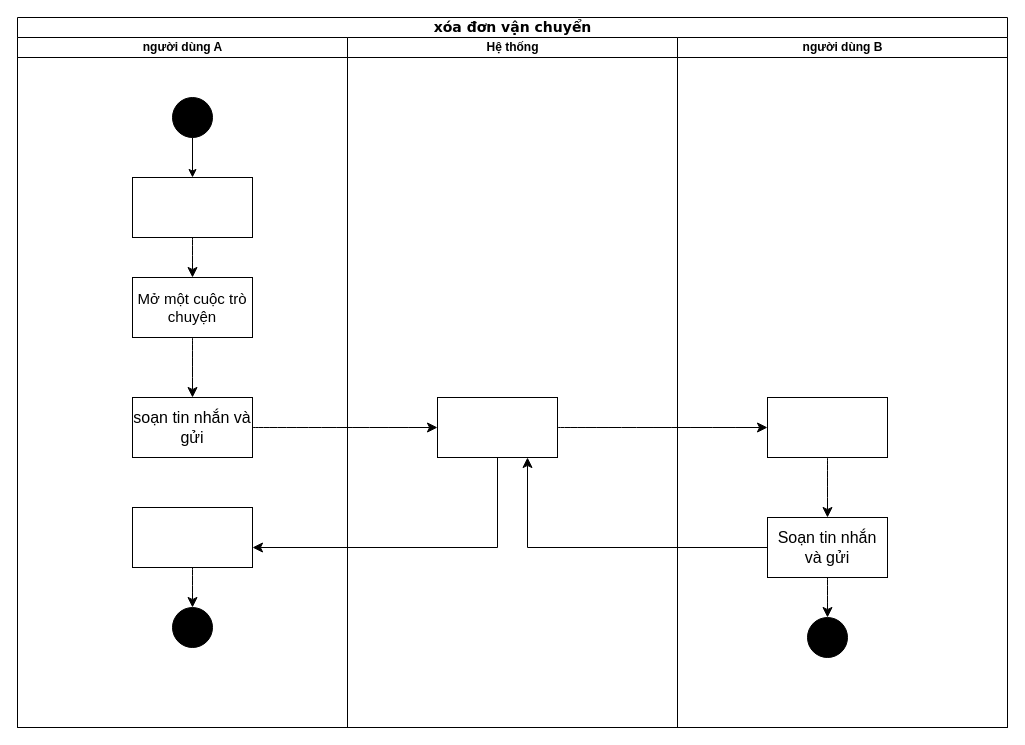
This 1025x745 diagram has some shape labels left out. Each missing label, with the centre of its shape:
"Mở trang nhắn tin" goes at (x=192, y=207).
"Nhận tin nhắn từ A" goes at (x=827, y=427).
"Nhận tin nhắn từ B" goes at (x=192, y=537).
"Xử lý tin nhắn" goes at (x=497, y=427).
